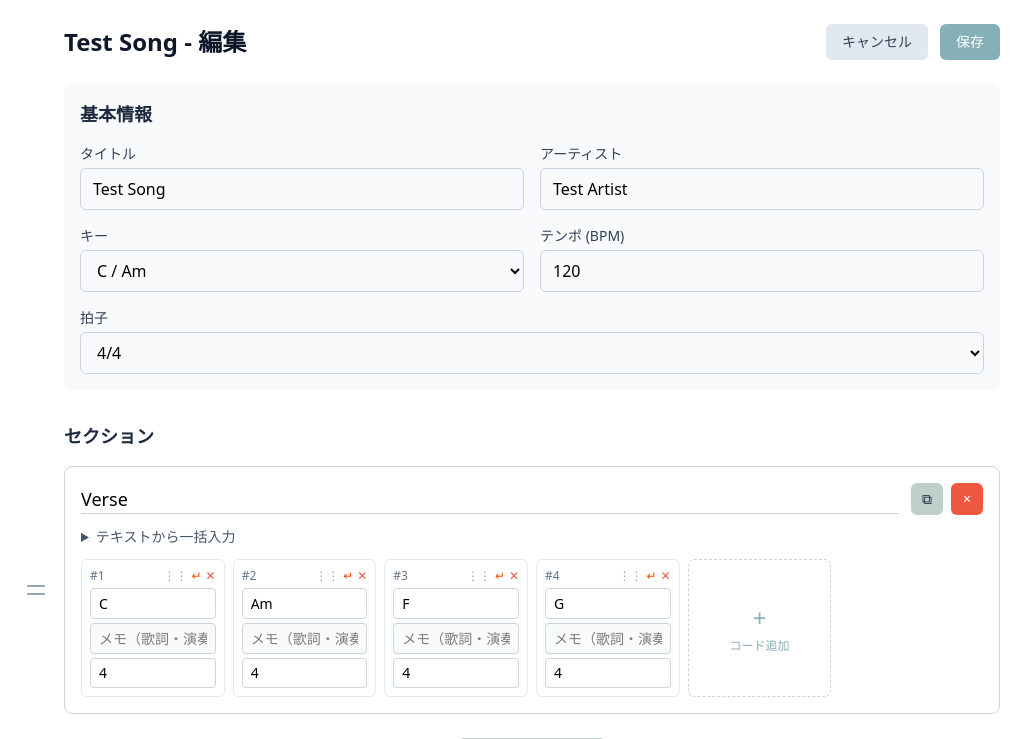
Test: ChordChartEditor › allows adding chord to section
This screenshot has width=1024, height=739.
Click the text "コード追加". click: (760, 646)
box: [730,638,790,654]
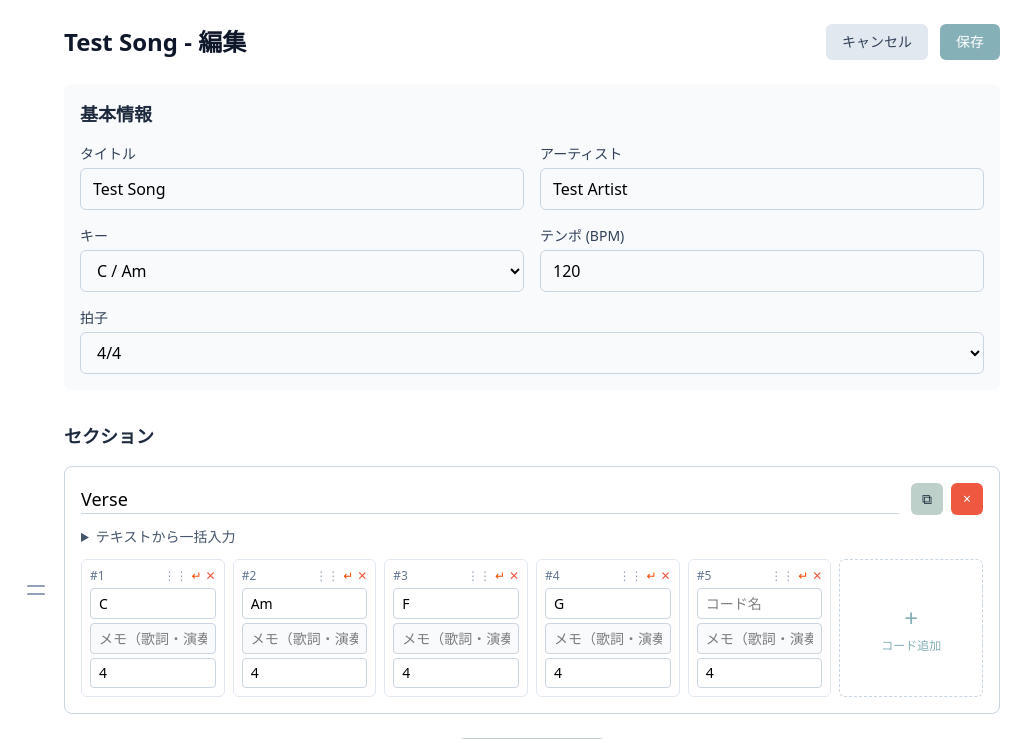
Result: the number of fields with placeholder "コード名" is 5 at [90,588,216,619]; [242,588,367,619]; [393,588,519,619]; [545,588,671,619]; [697,588,822,619]
